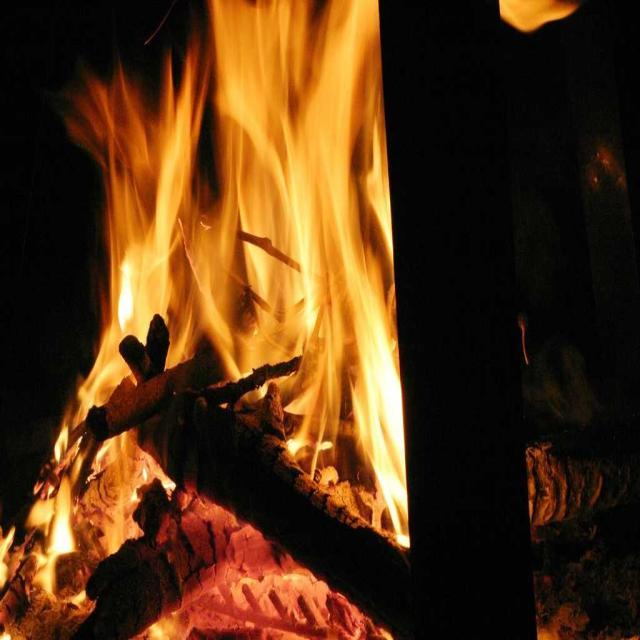Fire: (118, 17, 370, 355)
